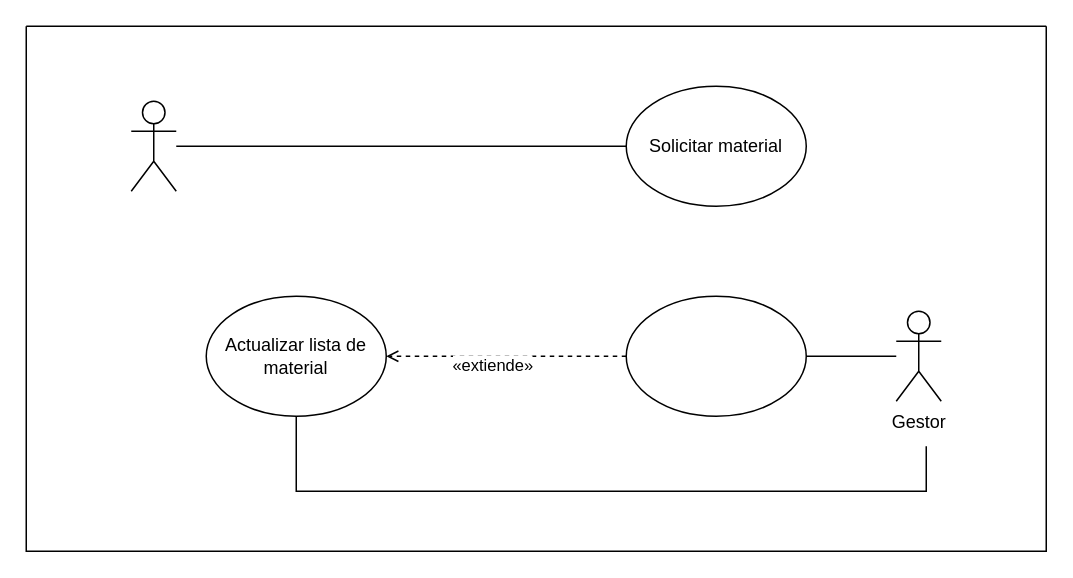
Image size: 1073x578. Some labels were removed from this diagram. The shapes that lost their labels are listed below. From the top down, each one's centre as x and y in pixels, then its label:
(153,145): Usuario
(715,355): Gestionar solicitudes
